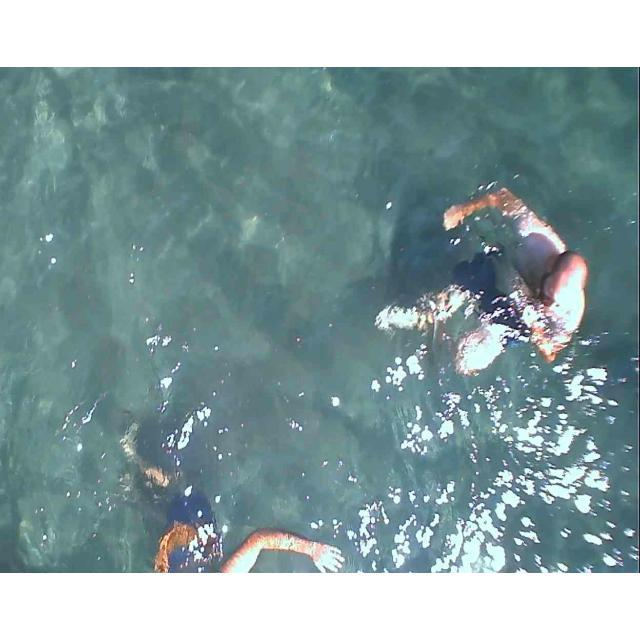human: (452, 174, 598, 370), (163, 474, 339, 568)
